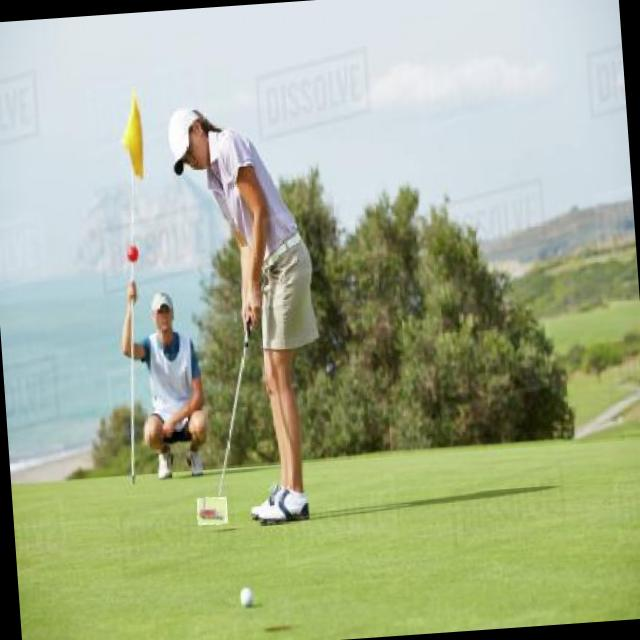club head: (196, 496, 228, 525)
